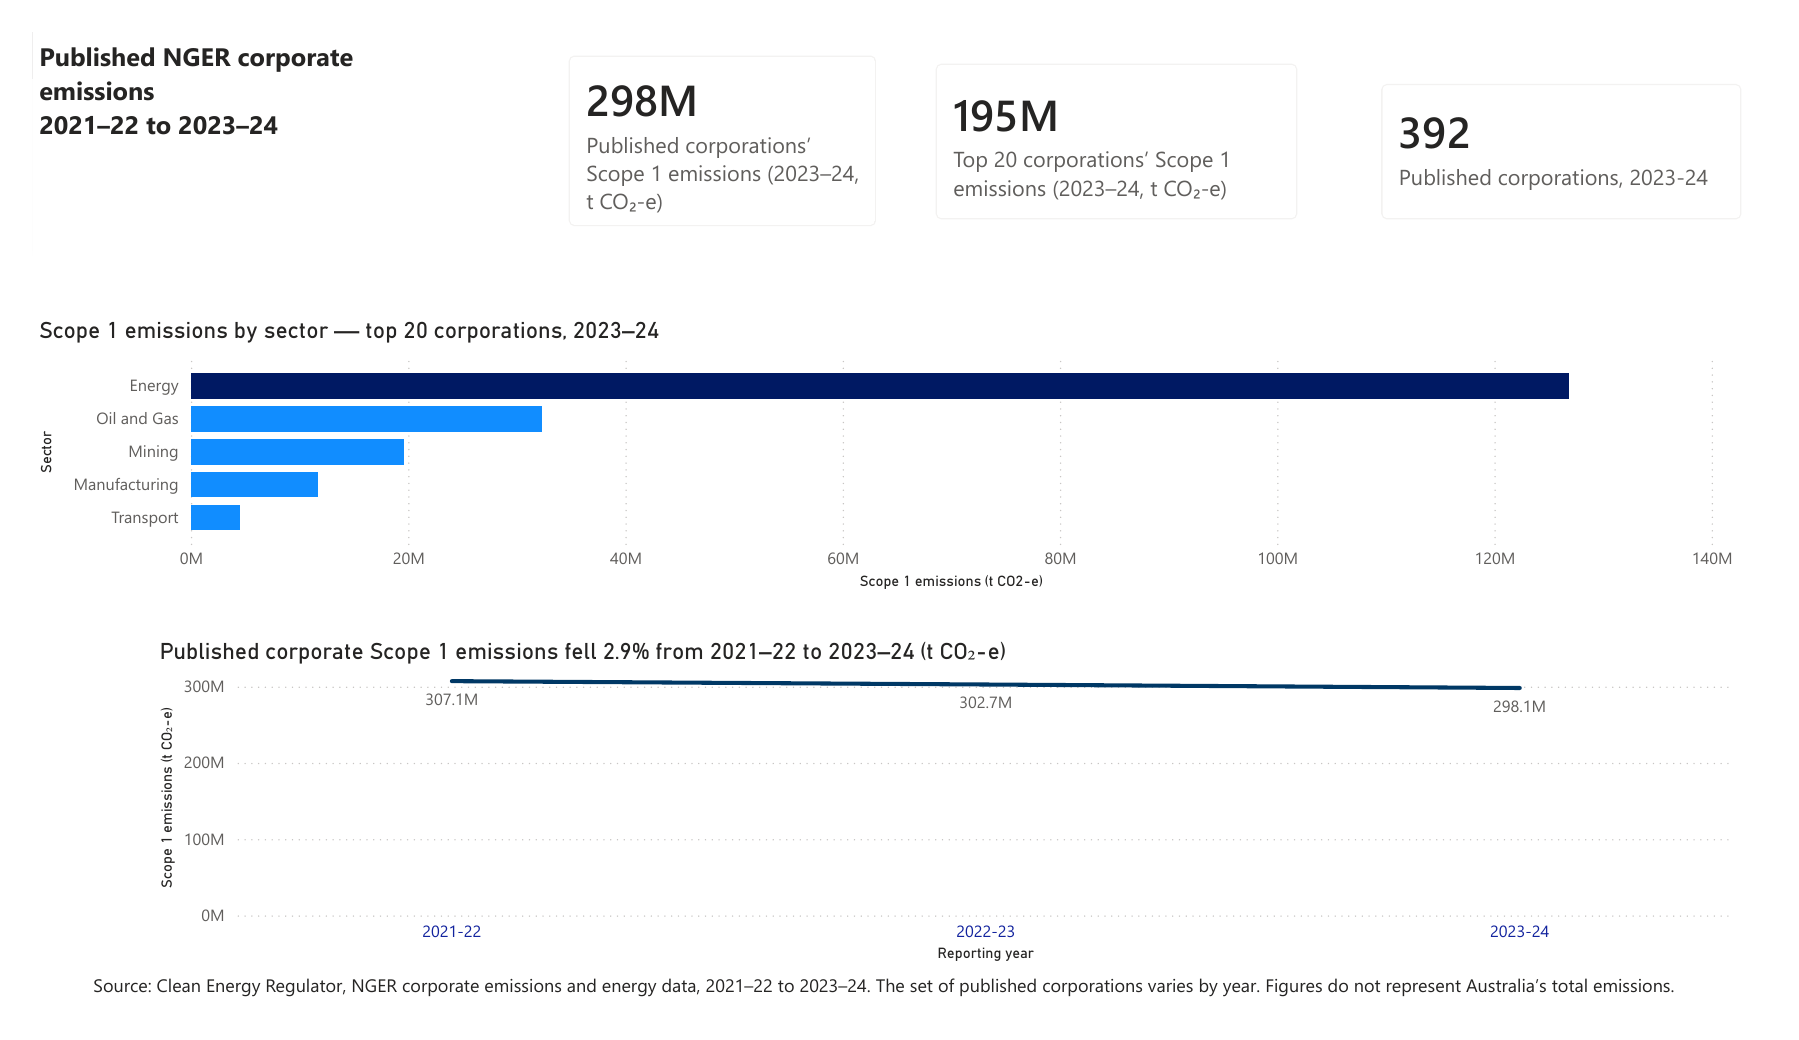

Layout of this report page (visuals, bound fields, positions):
{"tool":"powerbi","page":{"name":"Overview","canvas":[1280,720],"ordinal":0},"visuals":[{"type":"cardVisual","fields":{"Data":["Sum(emissions_trend.total_scope1)"]},"box":[379.3,0,261.7,160.7],"z":0},{"type":"cardVisual","fields":{"Data":["Sum(reporters_by_year.organisations)"]},"box":[979,21,301.5,149],"z":1000},{"type":"cardVisual","fields":{"Data":["Sum(sector_totals.total_scope1)"]},"box":[677.5,21.5,301.5,149.1],"z":2000},{"type":"lineChart","title":"Published corporate Scope 1 emissions, 2021–22 to 2023–24 (t CO₂-e)","fields":{"Category":["emissions_trend.reporting_year"],"Y":["Sum(emissions_trend.total_scope1)"]},"box":[89.4,445.6,1171.1,245.2],"z":3000},{"type":"clusteredBarChart","title":"Scope 1 emissions by sector — top 20 corporations, 2023–24","fields":{"Category":["sector_totals.sector"],"Y":["Sum(sector_totals.total_scope1)"]},"box":[0,210.4,1260.6,205.4],"z":4000},{"type":"textbox","box":[0,0,270,169],"z":5000},{"type":"textbox","box":[40,690,1220,28],"z":5001}]}

Visuals, with their boxes in screenshot pixels (x1, y1, x2, y2), scaled from the page's 1280x720 canvas onto the 1799x1040 screenshot:
cardVisual - Sum(emissions_trend.total_scope1): (x1=533, y1=0, x2=901, y2=232)
cardVisual - Sum(reporters_by_year.organisations): (x1=1376, y1=30, x2=1798, y2=246)
cardVisual - Sum(sector_totals.total_scope1): (x1=952, y1=31, x2=1376, y2=246)
"Published corporate Scope 1 emissions, 2021–22 to 2023–24 (t CO₂-e)" lineChart: (x1=126, y1=644, x2=1772, y2=998)
"Scope 1 emissions by sector — top 20 corporations, 2023–24" clusteredBarChart: (x1=0, y1=304, x2=1772, y2=601)
textbox: (x1=0, y1=0, x2=379, y2=244)
textbox: (x1=56, y1=997, x2=1771, y2=1037)
